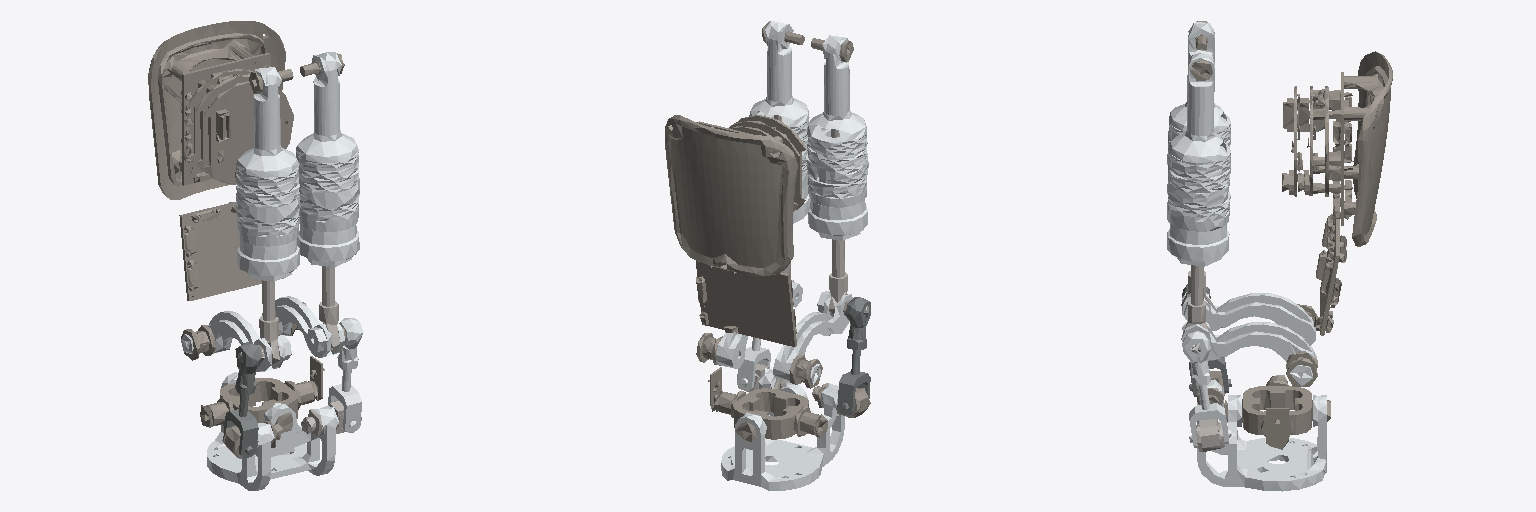
robot.urdf — right_wrist_mechanism:
<robot name="right_wrist_mechanism">
  <joint name="ARWristAL1" type="revolute">
    <origin xyz="0.0155 -0.034 0.178" rpy="-1.553093 0.0 3.141592"/>
    <axis xyz="1.0 0.0 0.0"/>
    <parent link="ARWristRoot_Link"/>
    <child link="ARWristAL1_Link"/>
    <limit effort="400.0" lower="-1.57" upper="1.57" velocity="3.1415926"/>
  </joint>
  <link name="ARWristAL1_Link">
    <inertial>
      <origin xyz="-5e-06 0.060513 8.2e-05" rpy="0.0 0.0 0.0"/>
      <mass value="0.11027956817212799"/>
      <inertia ixx="1.42606022882383e-05" ixy="1.1834937974475046e-10" ixz="1.555953533081748e-09" iyy="1.0001497220687136e-05" iyz="-8.070848165972657e-08" izz="1.4350648636972524e-05"/>
    </inertial>
    <visual name="ARWristAL1_Link_Visual">
      <origin xyz="0.0 0.0 0.0" rpy="-3.141593 0.0 -3.141593"/>
      <geometry>
        <mesh filename="../meshes/lfs-stl/ARWrist_AL1_Link.stl" scale="1.0 1.0 1.0"/>
      </geometry>
      <material name="">
        <color rgba="0.898039215686275 0.917647058823529 0.929411764705882 1.0"/>
      </material>
    </visual>
    <collision name="ARWristAL1_Link_Collision">
      <origin xyz="0.0 0.0 0.0" rpy="0.0 0.0 0.0"/>
      <geometry>
        <mesh filename="../meshes/lfs-stl/ARWrist_AL1_Link_convexhull.stl" scale="1.0 1.0 1.0"/>
      </geometry>
    </collision>
  </link>
  <joint name="ARWristAR1" type="revolute">
    <origin xyz="-0.0155 -0.034 0.178" rpy="-1.553093 0.0 3.141592"/>
    <axis xyz="1.0 0.0 0.0"/>
    <parent link="ARWristRoot_Link"/>
    <child link="ARWristAR1_Link"/>
    <limit effort="400.0" lower="-1.57" upper="1.57" velocity="3.1415926"/>
  </joint>
  <link name="ARWristAR1_Link">
    <inertial>
      <origin xyz="-0.0 0.058479 9.4e-05" rpy="0.0 0.0 0.0"/>
      <mass value="0.10112999999999997"/>
      <inertia ixx="1.4212213742458261e-05" ixy="1.1891377579045092e-10" ixz="1.482689765519501e-10" iyy="1.0001513742563879e-05" iyz="-8.07089999579205e-08" izz="1.4303213742665143e-05"/>
    </inertial>
    <visual name="ARWristAR1_Link_Visual">
      <origin xyz="0.0 0.0 0.0" rpy="-3.141593 0.0 -3.141593"/>
      <geometry>
        <mesh filename="../meshes/lfs-stl/ARWrist_AR1_Link.stl" scale="1.0 1.0 1.0"/>
      </geometry>
      <material name="">
        <color rgba="0.89804 0.91765 0.92941 1.0"/>
      </material>
    </visual>
    <collision name="ARWristAR1_Link_Collision">
      <origin xyz="0.0 0.0 0.0" rpy="0.0 0.0 0.0"/>
      <geometry>
        <mesh filename="../meshes/lfs-stl/ARWrist_AR1_Link_convexhull.stl" scale="1.0 1.0 1.0"/>
      </geometry>
    </collision>
  </link>
  <joint name="ARWristActL" type="prismatic">
    <origin xyz="0.0 0.13346 0.0" rpy="1.5708 0.0 -3.141593"/>
    <axis xyz="0.0 0.0 1.0"/>
    <parent link="ARWristAL1_Link"/>
    <child link="ARWristActL_Link"/>
    <limit effort="400.0" lower="-1.57" upper="1.57" velocity="3.1415926"/>
  </joint>
  <link name="ARWristActL_Link">
    <inertial>
      <origin xyz="0.0 0.0 -0.049176" rpy="0.0 0.0 0.0"/>
      <mass value="0.022414999999999987"/>
      <inertia ixx="2.2515569999998444e-05" ixy="-5.7141160926537444e-15" ixz="4.4123355091187445e-12" iyy="2.2496570000000005e-05" iyz="-2.923012745974418e-15" izz="1.0000000000001556e-05"/>
    </inertial>
    <visual name="ARWristActL_Link_Visual">
      <origin xyz="0.0 0.0 0.0" rpy="0.0 0.0 -3.141593"/>
      <geometry>
        <mesh filename="../meshes/lfs-stl/ARWrist_ActL_Link.stl" scale="1.0 1.0 1.0"/>
      </geometry>
      <material name="">
        <color rgba="0.77647 0.75686 0.73725 1.0"/>
      </material>
    </visual>
    <collision name="ARWristActL_Link_Collision">
      <origin xyz="0.0 0.0 0.0" rpy="0.0 0.0 0.0"/>
      <geometry>
        <mesh filename="../meshes/lfs-stl/ARWrist_ActL_Link_convexhull.stl" scale="1.0 1.0 1.0"/>
      </geometry>
    </collision>
  </link>
  <joint name="ARWristActR" type="prismatic">
    <origin xyz="0.0 0.13346 0.0" rpy="1.5708 0.0 -3.141593"/>
    <axis xyz="0.0 0.0 1.0"/>
    <parent link="ARWristAR1_Link"/>
    <child link="ARWristActR_Link"/>
    <limit effort="400.0" lower="-1.57" upper="1.57" velocity="3.1415926"/>
  </joint>
  <link name="ARWristActR_Link">
    <inertial>
      <origin xyz="0.0 0.0 -0.049176" rpy="0.0 0.0 0.0"/>
      <mass value="0.022415478206029786"/>
      <inertia ixx="2.2515773917037203e-05" ixy="-5.823052830156676e-15" ixz="4.412407393697763e-12" iyy="2.2496459399899276e-05" iyz="-2.923111850980787e-15" izz="1.0000000000001556e-05"/>
    </inertial>
    <visual name="ARWristActR_Link_Visual">
      <origin xyz="0.0 0.0 0.0" rpy="0.0 0.0 -3.141593"/>
      <geometry>
        <mesh filename="../meshes/lfs-stl/ARWrist_ActR_Link.stl" scale="1.0 1.0 1.0"/>
      </geometry>
      <material name="">
        <color rgba="0.776470588235294 0.756862745098039 0.737254901960784 1.0"/>
      </material>
    </visual>
    <collision name="ARWristActR_Link_Collision">
      <origin xyz="0.0 0.0 0.0" rpy="0.0 0.0 0.0"/>
      <geometry>
        <mesh filename="../meshes/lfs-stl/ARWrist_ActR_Link_convexhull.stl" scale="1.0 1.0 1.0"/>
      </geometry>
    </collision>
  </link>
  <joint name="ARWristBL0" type="revolute">
    <origin xyz="0.0 0.0 0.045018" rpy="0.0 0.0 3.141592"/>
    <axis xyz="1.0 0.0 0.0"/>
    <parent link="ARWristBL3_Link"/>
    <child link="ARWristBL0_Link"/>
    <limit effort="400.0" lower="-1.57" upper="1.57" velocity="3.1415926"/>
  </joint>
  <link name="ARWristBL0_Link">
    <inertial>
      <origin xyz="0.0 0.0 0.0" rpy="0.0 0.0 0.0"/>
      <mass value="1e-05"/>
      <inertia ixx="1e-05" ixy="0.0" ixz="0.0" iyy="1e-05" iyz="0.0" izz="1e-05"/>
    </inertial>
  </link>
  <joint name="ARWristBL1" type="revolute">
    <origin xyz="0.0155 0.011 0.032" rpy="0.259193 0.0 3.141592"/>
    <axis xyz="1.0 0.0 0.0"/>
    <parent link="ARWristRoot_Link"/>
    <child link="ARWristBL1_Link"/>
    <limit effort="400.0" lower="-1.57" upper="1.57" velocity="3.1415926"/>
  </joint>
  <link name="ARWristBL1_Link">
    <inertial>
      <origin xyz="-0.001915 0.02635 0.001041" rpy="0.0 0.0 0.0"/>
      <mass value="0.024008000000000012"/>
      <inertia ixx="1.3690309326297567e-05" ixy="1.5146961171299974e-12" ixz="-5.440676590840389e-14" iyy="1.0041289326298746e-05" iyz="3.866799999999256e-07" izz="1.3621309326298153e-05"/>
    </inertial>
    <visual name="ARWristBL1_Link_Visual">
      <origin xyz="0.0 0.0 0.0" rpy="0.0 0.0 0.0"/>
      <geometry>
        <mesh filename="../meshes/lfs-stl/ARWrist_BL1_Link.stl" scale="1.0 1.0 1.0"/>
      </geometry>
      <material name="">
        <color rgba="0.89804 0.91765 0.92941 1.0"/>
      </material>
    </visual>
    <collision name="ARWristBL1_Link_Collision">
      <origin xyz="0.0 0.0 0.0" rpy="0.0 0.0 0.0"/>
      <geometry>
        <mesh filename="../meshes/lfs-stl/ARWrist_BL1_Link_convexhull.stl" scale="1.0 1.0 1.0"/>
      </geometry>
    </collision>
  </link>
  <joint name="ARWristBL2" type="revolute">
    <origin xyz="0.0 0.0 0.0" rpy="0.0 0.0 -3.141592"/>
    <axis xyz="0.0 1.0 0.0"/>
    <parent link="ARWristBL0_Link"/>
    <child link="ARWristBL2_Link"/>
    <limit effort="400.0" lower="-1.57" upper="1.57" velocity="3.1415926"/>
  </joint>
  <link name="ARWristBL2_Link">
    <inertial>
      <origin xyz="-0.002859 0.0 4.9e-05" rpy="0.0 0.0 0.0"/>
      <mass value="0.003730583331722572"/>
      <inertia ixx="1.0000022086181487e-05" ixy="2.3475959017441574e-13" ixz="1.2800625228418757e-09" iyy="1.007421474746067e-05" iyz="3.1032040435995356e-13" izz="1.00741893801741e-05"/>
    </inertial>
    <visual name="ARWristBL2_Link_Visual">
      <origin xyz="0.0 0.0 0.0" rpy="0.0 0.0 -3.141593"/>
      <geometry>
        <mesh filename="../meshes/lfs-stl/ARWrist_BL2_Link.stl" scale="1.0 1.0 1.0"/>
      </geometry>
      <material name="">
        <color rgba="0.647058823529412 0.619607843137255 0.588235294117647 1.0"/>
      </material>
    </visual>
    <collision name="ARWristBL2_Link_Collision">
      <origin xyz="0.0 0.0 0.0" rpy="0.0 0.0 0.0"/>
      <geometry>
        <mesh filename="../meshes/lfs-stl/ARWrist_BL2_Link_convexhull.stl" scale="1.0 1.0 1.0"/>
      </geometry>
    </collision>
  </link>
  <joint name="ARWristBL3" type="revolute">
    <origin xyz="0.0 0.0 0.0" rpy="0.0 -0.017255 -3.141592"/>
    <axis xyz="0.0 1.0 0.0"/>
    <parent link="ARWristBL4_Link"/>
    <child link="ARWristBL3_Link"/>
    <limit effort="400.0" lower="-1.57" upper="1.57" velocity="3.1415926"/>
  </joint>
  <link name="ARWristBL3_Link">
    <inertial>
      <origin xyz="2.4e-05 0.0 0.028302" rpy="0.0 0.0 0.0"/>
      <mass value="0.016343668811119795"/>
      <inertia ixx="1.0588437589345121e-05" ixy="-2.694579659860282e-12" ixz="3.9717064992779286e-10" iyy="1.04422980274748e-05" iyz="1.0476070445409481e-11" izz="1.0000000268321719e-05"/>
    </inertial>
    <visual name="ARWristBL3_Link_Visual">
      <origin xyz="0.0 0.0 0.0" rpy="0.0 0.0 -3.141593"/>
      <geometry>
        <mesh filename="../meshes/lfs-stl/ARWrist_BL3_Link.stl" scale="1.0 1.0 1.0"/>
      </geometry>
      <material name="">
        <color rgba="0.898039215686275 0.917647058823529 0.929411764705882 1.0"/>
      </material>
    </visual>
    <collision name="ARWristBL3_Link_Collision">
      <origin xyz="0.0 0.0 0.0" rpy="0.0 0.0 0.0"/>
      <geometry>
        <mesh filename="../meshes/lfs-stl/ARWrist_BL3_Link_convexhull.stl" scale="1.0 1.0 1.0"/>
      </geometry>
    </collision>
  </link>
  <joint name="ARWristBL4" type="revolute">
    <origin xyz="0.027 -0.03 0.0" rpy="-0.141793 0.0 3.141592"/>
    <axis xyz="1.0 0.0 0.0"/>
    <parent link="ARWristYaw_Link"/>
    <child link="ARWristBL4_Link"/>
    <limit effort="400.0" lower="-1.57" upper="1.57" velocity="3.1415926"/>
  </joint>
  <link name="ARWristBL4_Link">
    <inertial>
      <origin xyz="0.002214 0.0 0.0" rpy="0.0 0.0 0.0"/>
      <mass value="0.0116530368127355"/>
      <inertia ixx="1.0000000000000031e-05" ixy="-9.517183235429624e-14" ixz="-9.24437170482028e-15" iyy="1.02775224788874e-05" iyz="-9.076970388458057e-16" izz="1.0188830976875944e-05"/>
    </inertial>
    <visual name="ARWristBL4_Link_Visual">
      <origin xyz="0.0 0.0 0.0" rpy="0.0 0.0 0.0"/>
      <geometry>
        <mesh filename="../meshes/lfs-stl/ARWrist_BL4_Link.stl" scale="1.0 1.0 1.0"/>
      </geometry>
      <material name="">
        <color rgba="0.776470588235294 0.756862745098039 0.737254901960784 1.0"/>
      </material>
    </visual>
    <collision name="ARWristBL4_Link_Collision">
      <origin xyz="0.0 0.0 0.0" rpy="0.0 0.0 0.0"/>
      <geometry>
        <mesh filename="../meshes/lfs-stl/ARWrist_BL4_Link_convexhull.stl" scale="1.0 1.0 1.0"/>
      </geometry>
    </collision>
  </link>
  <joint name="ARWristBR0" type="revolute">
    <origin xyz="0.0 0.0 0.045018" rpy="0.0 0.0 3.141592"/>
    <axis xyz="1.0 0.0 0.0"/>
    <parent link="ARWristBR3_Link"/>
    <child link="ARWristBR0_Link"/>
    <limit effort="400.0" lower="-1.57" upper="1.57" velocity="3.1415926"/>
  </joint>
  <link name="ARWristBR0_Link">
    <inertial>
      <origin xyz="0.0 0.0 0.0" rpy="0.0 0.0 0.0"/>
      <mass value="1e-05"/>
      <inertia ixx="1e-05" ixy="0.0" ixz="0.0" iyy="1e-05" iyz="0.0" izz="1e-05"/>
    </inertial>
  </link>
  <joint name="ARWristBR1" type="revolute">
    <origin xyz="-0.0155 0.011 0.032" rpy="0.259193 0.0 3.141592"/>
    <axis xyz="1.0 0.0 0.0"/>
    <parent link="ARWristRoot_Link"/>
    <child link="ARWristBR1_Link"/>
    <limit effort="400.0" lower="-1.57" upper="1.57" velocity="3.1415926"/>
  </joint>
  <link name="ARWristBR1_Link">
    <inertial>
      <origin xyz="0.001915 0.02635 0.001041" rpy="0.0 0.0 0.0"/>
      <mass value="0.024008000000000012"/>
      <inertia ixx="1.3690545308238087e-05" ixy="1.3711412479914173e-12" ixz="-1.7390764236681272e-13" iyy="1.0041345308239099e-05" iyz="3.869599999998984e-07" izz="1.362164530823862e-05"/>
    </inertial>
    <visual name="ARWristBR1_Link_Visual">
      <origin xyz="0.0 0.0 0.0" rpy="0.0 0.0 0.0"/>
      <geometry>
        <mesh filename="../meshes/lfs-stl/ARWrist_BR1_Link.stl" scale="1.0 1.0 1.0"/>
      </geometry>
      <material name="">
        <color rgba="0.89804 0.91765 0.92941 1.0"/>
      </material>
    </visual>
    <collision name="ARWristBR1_Link_Collision">
      <origin xyz="0.0 0.0 0.0" rpy="0.0 0.0 0.0"/>
      <geometry>
        <mesh filename="../meshes/lfs-stl/ARWrist_BR1_Link_convexhull.stl" scale="1.0 1.0 1.0"/>
      </geometry>
    </collision>
  </link>
  <joint name="ARWristBR2" type="revolute">
    <origin xyz="0.0 0.0 0.0" rpy="0.0 0.0 -3.141592"/>
    <axis xyz="0.0 1.0 0.0"/>
    <parent link="ARWristBR0_Link"/>
    <child link="ARWristBR2_Link"/>
    <limit effort="400.0" lower="-1.57" upper="1.57" velocity="3.1415926"/>
  </joint>
  <link name="ARWristBR2_Link">
    <inertial>
      <origin xyz="-0.002859 0.0 4.9e-05" rpy="0.0 0.0 0.0"/>
      <mass value="0.0037305447563014613"/>
      <inertia ixx="1.0000022093775196e-05" ixy="1.6121261596524313e-13" ixz="1.280310018142885e-09" iyy="1.0074212979026307e-05" iyz="1.0105450335781848e-12" izz="1.0074192560969954e-05"/>
    </inertial>
    <visual name="ARWristBR2_Link_Visual">
      <origin xyz="0.0 0.0 0.0" rpy="0.0 0.0 3.141593"/>
      <geometry>
        <mesh filename="../meshes/lfs-stl/ARWrist_BR2_Link.stl" scale="1.0 1.0 1.0"/>
      </geometry>
      <material name="">
        <color rgba="0.647058823529412 0.619607843137255 0.588235294117647 1.0"/>
      </material>
    </visual>
    <collision name="ARWristBR2_Link_Collision">
      <origin xyz="0.0 0.0 0.0" rpy="0.0 0.0 0.0"/>
      <geometry>
        <mesh filename="../meshes/lfs-stl/ARWrist_BR2_Link_convexhull.stl" scale="1.0 1.0 1.0"/>
      </geometry>
    </collision>
  </link>
  <joint name="ARWristBR3" type="revolute">
    <origin xyz="0.0 0.0 0.0" rpy="0.0 -0.017255 -3.141592"/>
    <axis xyz="0.0 1.0 0.0"/>
    <parent link="ARWristBR4_Link"/>
    <child link="ARWristBR3_Link"/>
    <limit effort="400.0" lower="-1.57" upper="1.57" velocity="3.1415926"/>
  </joint>
  <link name="ARWristBR3_Link">
    <inertial>
      <origin xyz="2.4e-05 0.0 0.028302" rpy="0.0 0.0 0.0"/>
      <mass value="0.016343666311700304"/>
      <inertia ixx="1.0588437511113046e-05" ixy="-3.928745829304398e-12" ixz="3.9711659584647646e-10" iyy="1.0442298557727444e-05" iyz="9.935123851420574e-12" izz="1.0000000268223861e-05"/>
    </inertial>
    <visual name="ARWristBR3_Link_Visual">
      <origin xyz="0.0 0.0 0.0" rpy="0.0 0.0 3.141593"/>
      <geometry>
        <mesh filename="../meshes/lfs-stl/ARWrist_BR3_Link.stl" scale="1.0 1.0 1.0"/>
      </geometry>
      <material name="">
        <color rgba="0.529411764705882 0.549019607843137 0.549019607843137 1.0"/>
      </material>
    </visual>
    <collision name="ARWristBR3_Link_Collision">
      <origin xyz="0.0 0.0 0.0" rpy="0.0 0.0 0.0"/>
      <geometry>
        <mesh filename="../meshes/lfs-stl/ARWrist_BR3_Link_convexhull.stl" scale="1.0 1.0 1.0"/>
      </geometry>
    </collision>
  </link>
  <joint name="ARWristBR4" type="revolute">
    <origin xyz="-0.027 -0.03 0.0" rpy="0.141793 0.0 -8e-06"/>
    <axis xyz="1.0 0.0 0.0"/>
    <parent link="ARWristYaw_Link"/>
    <child link="ARWristBR4_Link"/>
    <limit effort="400.0" lower="-1.57" upper="1.57" velocity="3.1415926"/>
  </joint>
  <link name="ARWristBR4_Link">
    <inertial>
      <origin xyz="0.002214 0.0 0.0" rpy="0.0 0.0 0.0"/>
      <mass value="0.011653036812768903"/>
      <inertia ixx="1.0000000000000031e-05" ixy="-9.5171739403622e-14" ixz="9.244404617709602e-15" iyy="1.0277522478885879e-05" iyz="-9.049494430282981e-16" izz="1.0188830976877643e-05"/>
    </inertial>
    <visual name="ARWristBR4_Link_Visual">
      <origin xyz="0.0 0.0 0.0" rpy="0.0 0.0 0.0"/>
      <geometry>
        <mesh filename="../meshes/lfs-stl/ARWrist_BR4_Link.stl" scale="1.0 1.0 1.0"/>
      </geometry>
      <material name="">
        <color rgba="0.647058823529412 0.619607843137255 0.588235294117647 1.0"/>
      </material>
    </visual>
    <collision name="ARWristBR4_Link_Collision">
      <origin xyz="0.0 0.0 0.0" rpy="0.0 0.0 0.0"/>
      <geometry>
        <mesh filename="../meshes/lfs-stl/ARWrist_BR4_Link_convexhull.stl" scale="1.0 1.0 1.0"/>
      </geometry>
    </collision>
  </link>
  <joint name="ARWristPitch" type="revolute">
    <origin xyz="0.0 0.0 0.0" rpy="-0.0 0.0 -1e-06"/>
    <axis xyz="1.0 0.0 0.0"/>
    <parent link="ARWristRoot_Link"/>
    <child link="ARWristPitch_Link"/>
    <limit effort="400.0" lower="-0.741" upper="1.75" velocity="3.1415926"/>
  </joint>
  <link name="ARWristPitch_Link">
    <inertial>
      <origin xyz="0.0 0.0 0.0" rpy="0.0 0.0 0.0"/>
      <mass value="0.030345802955544107"/>
      <inertia ixx="1.0000000011242574e-05" ixy="-9.966047055450726e-14" ixz="-1.3686119410217597e-10" iyy="1.014377905770101e-05" iyz="-1.3704172984466683e-10" izz="1.1666089364253713e-05"/>
    </inertial>
    <visual name="ARWristPitch_Link_Visual">
      <origin xyz="0.0 0.0 0.0" rpy="3.141593 0.0 -0.0"/>
      <geometry>
        <mesh filename="../meshes/lfs-stl/ARWristPitch_Link.stl" scale="1.0 1.0 1.0"/>
      </geometry>
      <material name="">
        <color rgba="0.647058823529412 0.619607843137255 0.588235294117647 1.0"/>
      </material>
    </visual>
    <collision name="ARWristPitch_Link_Collision">
      <origin xyz="0.0 0.0 0.0" rpy="0.0 0.0 0.0"/>
      <geometry>
        <mesh filename="../meshes/lfs-stl/ARWristPitch_Link_convexhull.stl" scale="1.0 1.0 1.0"/>
      </geometry>
    </collision>
  </link>
  <link name="ARWristRoot_Link">
    <inertial>
      <origin xyz="-0.000875 0.015651 0.10982" rpy="0.0 0.0 0.0"/>
      <mass value="0.12307001358415799"/>
      <inertia ixx="1.6915e-05" ixy="-1.0690005486444212e-08" ixz="1.5837996296873942e-08" iyy="2.9632000408180187e-05" iyz="-5.891545378037206e-07" izz="1.3863999591819818e-05"/>
    </inertial>
    <visual name="ARWristRoot_Link_Visual">
      <origin xyz="0.0 0.0 0.0" rpy="0.0 0.0 0.0"/>
      <geometry>
        <mesh filename="../meshes/lfs-stl/ARWrist_Root_Link.stl" scale="1.0 1.0 1.0"/>
      </geometry>
      <material name="">
        <color rgba="0.64706 0.61961 0.58824 1.0"/>
      </material>
    </visual>
    <collision name="ARWristRoot_Link_Collision">
      <origin xyz="0.0 0.0 0.0" rpy="0.0 0.0 0.0"/>
      <geometry>
        <mesh filename="../meshes/lfs-stl/ARWrist_Root_Link_convexhull.stl" scale="1.0 1.0 1.0"/>
      </geometry>
    </collision>
  </link>
  <joint name="ARWristYaw" type="revolute">
    <origin xyz="0.0 0.0 0.0" rpy="0.0 0.0 1e-06"/>
    <axis xyz="0.0 1.0 0.0"/>
    <parent link="ARWristPitch_Link"/>
    <child link="ARWristYaw_Link"/>
    <limit effort="400.0" lower="-0.558" upper="0.593" velocity="3.1415926"/>
  </joint>
  <link name="ARWristYaw_Link">
    <inertial>
      <origin xyz="-6e-05 -0.011222 -0.011777" rpy="0.0 0.0 0.0"/>
      <mass value="0.04402665761680324"/>
      <inertia ixx="1.4523374545063202e-05" ixy="3.5210414776992013e-09" ixz="-1.8323837570945907e-08" iyy="1.0332755928692055e-05" iyz="1.476819147742914e-06" izz="1.6554592724183995e-05"/>
    </inertial>
    <visual name="ARWristYaw_Link_Visual">
      <origin xyz="0.0 0.0 0.0" rpy="3.141593 0.0 3.141592"/>
      <geometry>
        <mesh filename="../meshes/lfs-stl/ARWristYaw_Link.stl" scale="1.0 1.0 1.0"/>
      </geometry>
      <material name="">
        <color rgba="0.898039215686275 0.917647058823529 0.929411764705882 1.0"/>
      </material>
    </visual>
    <collision name="ARWristYaw_Link_Collision">
      <origin xyz="0.0 0.0 0.0" rpy="0.0 0.0 0.0"/>
      <geometry>
        <mesh filename="../meshes/lfs-stl/ARWristYaw_Link_convexhull.stl" scale="1.0 1.0 1.0"/>
      </geometry>
    </collision>
  </link>
</robot>

--- Facts derived from the render (not from the file) ---
Views: 3 orthographic renders of the robot side by side, from view 1: azimuth 30°, elevation 25°; view 2: azimuth 150°, elevation 25°; view 3: azimuth 270°, elevation 25°.
Model right_wrist_mechanism with 17 links and 16 joints (14 revolute, 2 prismatic), rooted at ARWristRoot_Link, posed every joint at zero.
Visible links, largest first — view 1: ARWristRoot_Link, ARWristAR1_Link, ARWristAL1_Link, ARWristYaw_Link, ARWristBR3_Link, ARWristBR1_Link, ARWristPitch_Link, ARWristBL3_Link, ARWristBL1_Link, ARWristActL_Link, ARWristActR_Link, ARWristBL4_Link (+1 smaller); view 2: ARWristRoot_Link, ARWristAR1_Link, ARWristYaw_Link, ARWristAL1_Link, ARWristPitch_Link, ARWristBR1_Link, ARWristBR3_Link, ARWristBL1_Link, ARWristActR_Link, ARWristBL3_Link, ARWristBR4_Link; view 3: ARWristRoot_Link, ARWristAL1_Link, ARWristYaw_Link, ARWristBL1_Link, ARWristBR1_Link, ARWristPitch_Link, ARWristBL3_Link, ARWristAR1_Link, ARWristActL_Link, ARWristBL4_Link.
Link boxes in pixels (<box>): ARWristRoot_Link: <box>148,21,344,425</box>; ARWristAR1_Link: <box>235,67,300,281</box>; ARWristAL1_Link: <box>296,52,359,266</box>; ARWristYaw_Link: <box>207,372,338,490</box>; ARWristBR3_Link: <box>224,342,261,457</box>; ARWristBR1_Link: <box>181,311,291,371</box>; ARWristPitch_Link: <box>200,378,317,432</box>; ARWristBL3_Link: <box>328,318,363,432</box>; ARWristBL1_Link: <box>262,296,344,357</box>; ARWristActL_Link: <box>319,266,339,349</box>; ARWristActR_Link: <box>259,280,279,365</box>; ARWristBL4_Link: <box>301,400,361,435</box>; ARWristRoot_Link: <box>665,21,853,436</box>; ARWristAR1_Link: <box>806,35,868,240</box>; ARWristYaw_Link: <box>721,368,844,490</box>; ARWristAL1_Link: <box>749,21,810,223</box>; ARWristPitch_Link: <box>714,388,827,441</box>; ARWristBR1_Link: <box>773,291,867,384</box>; ARWristBR3_Link: <box>837,297,870,415</box>; ARWristBL1_Link: <box>716,280,802,368</box>; ARWristActR_Link: <box>829,129,847,316</box>; ARWristBL3_Link: <box>737,337,770,390</box>; ARWristBR4_Link: <box>812,383,870,417</box>; ARWristRoot_Link: <box>1190,21,1392,449</box>; ARWristAL1_Link: <box>1167,50,1230,266</box>; ARWristYaw_Link: <box>1197,379,1326,491</box>; ARWristBL1_Link: <box>1181,321,1316,385</box>; ARWristBR1_Link: <box>1182,292,1315,345</box>; ARWristPitch_Link: <box>1224,375,1330,436</box>; ARWristBL3_Link: <box>1182,331,1231,447</box>; ARWristAR1_Link: <box>1167,21,1230,222</box>; ARWristActL_Link: <box>1181,265,1208,338</box>; ARWristBL4_Link: <box>1196,419,1224,451</box>.
Bounding box of the posed robot: 0.0704 × 0.1018 × 0.2136 m (x, y, z).
15 mesh visuals loaded from 15 distinct referenced files (15 binary STL).